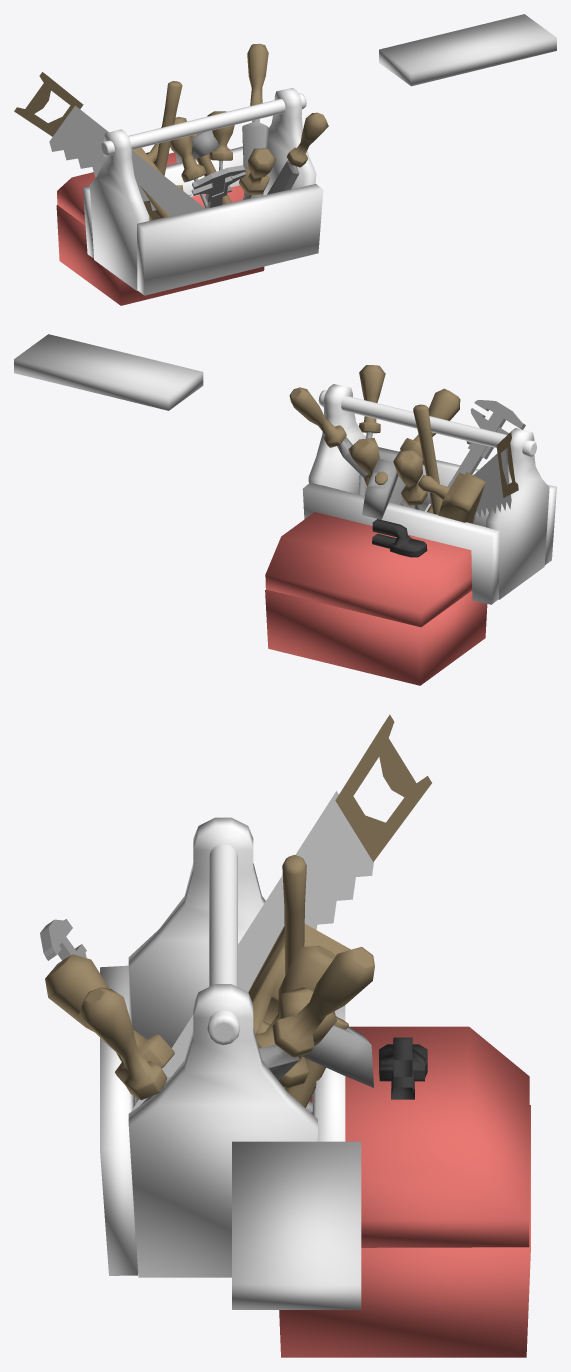
Rendered from tools1.glb.
3 renders of one model, top to bottom at view 1: azimuth 30°, elevation 25°; view 2: azimuth 150°, elevation 25°; view 3: azimuth 270°, elevation 25°, orthographic. The views are drawn at different scales.
Parts seen in each view (by area): view 1: Cube.042, Cube.040, Cube.041, saw.002, Cube.004, Circle.018, Cube.045, kriska.001, Cube.044, Cube.046, Circle.024, Circle.028 (+10 smaller); view 2: kriska.001, Cube.004, Cube.040, Cube.044, Cube.041, Cube.045, Circle.018, Cube.042, rub.002, saw.002, Cube.050, Cube.043 (+8 smaller); view 3: kriska.001, Cube.045, Cube.004, Cube.040, Cube.041, saw.002, Cube.042, Circle.018, Cube.046, Circle.028, Circle.026, Circle.024 (+10 smaller).
Boxes of the visible parts, x1,y1,x2,y2 form: Cube.042: (137, 184, 323, 295); Cube.040: (379, 14, 556, 86); Cube.041: (89, 129, 149, 290); saw.002: (49, 105, 204, 216); Cube.004: (56, 205, 264, 305); Circle.018: (101, 93, 306, 156); Cube.045: (263, 88, 316, 195); kriska.001: (57, 147, 244, 224); Cube.044: (82, 146, 243, 258); Cube.046: (14, 72, 83, 136); Circle.024: (239, 148, 276, 194); Circle.028: (247, 43, 268, 105); kriska.001: (265, 512, 471, 627); Cube.004: (265, 589, 487, 685); Cube.040: (14, 334, 203, 410); Cube.044: (302, 482, 499, 604); Cube.041: (486, 428, 549, 599); Cube.045: (308, 384, 366, 494); Circle.018: (318, 390, 536, 456); Cube.042: (378, 447, 556, 564); rub.002: (438, 471, 485, 523); saw.002: (473, 450, 511, 519); Cube.050: (442, 400, 525, 500); Cube.043: (362, 458, 398, 519); kriska.001: (309, 1026, 529, 1247); Cube.045: (128, 984, 317, 1277); Cube.004: (279, 1105, 530, 1357); Cube.040: (232, 1141, 361, 1309); Cube.041: (128, 817, 265, 1047); saw.002: (132, 791, 373, 1110); Cube.042: (100, 965, 137, 1275); Circle.018: (207, 844, 240, 1045); Cube.046: (335, 714, 431, 861); Circle.028: (272, 947, 374, 1057); Circle.026: (79, 987, 166, 1100); Circle.024: (45, 954, 174, 1084).
Bounding box in the file's own units: 3.95 × 1.73 × 1.7.
